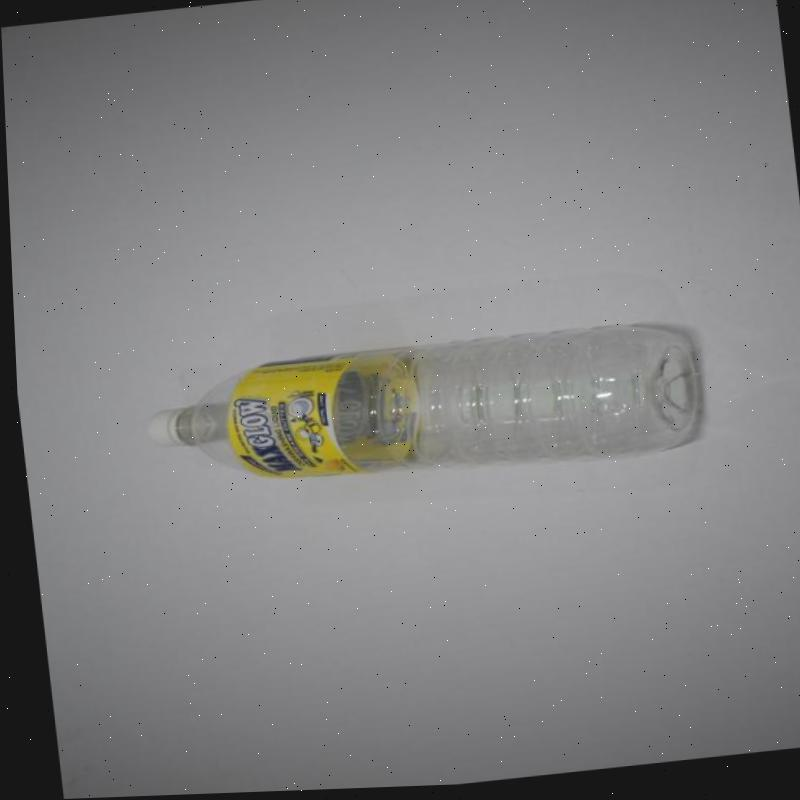botella: (132, 319, 701, 508)
